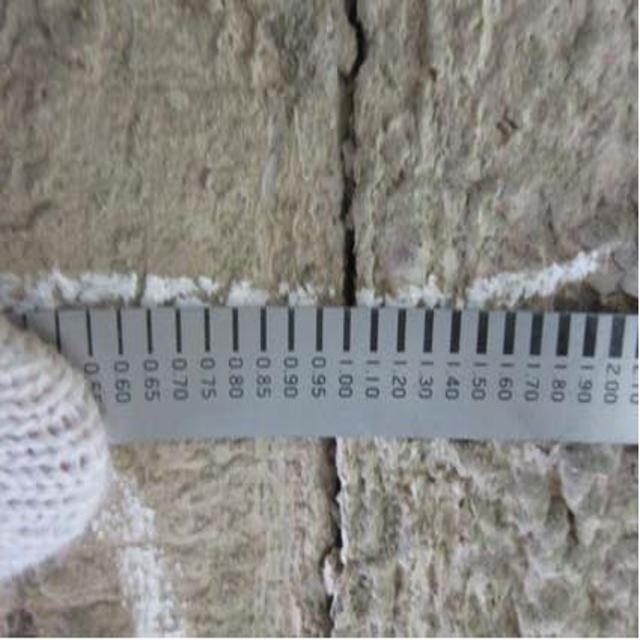crack: (322, 5, 384, 298), (293, 443, 357, 638)
